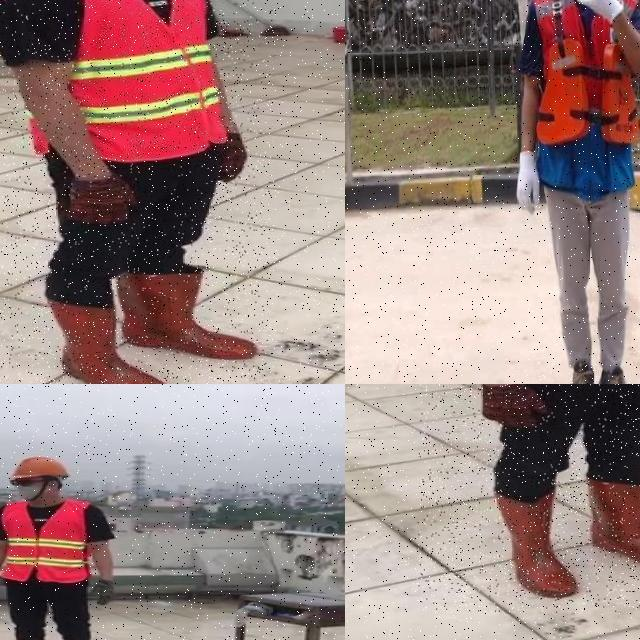boots: (114, 271, 256, 359), (41, 298, 175, 384), (491, 487, 581, 600), (587, 477, 640, 573), (561, 357, 597, 384), (596, 365, 634, 384)
helmet: (4, 452, 77, 484)
vest: (0, 0, 227, 159), (525, 0, 640, 194), (0, 499, 94, 584)
